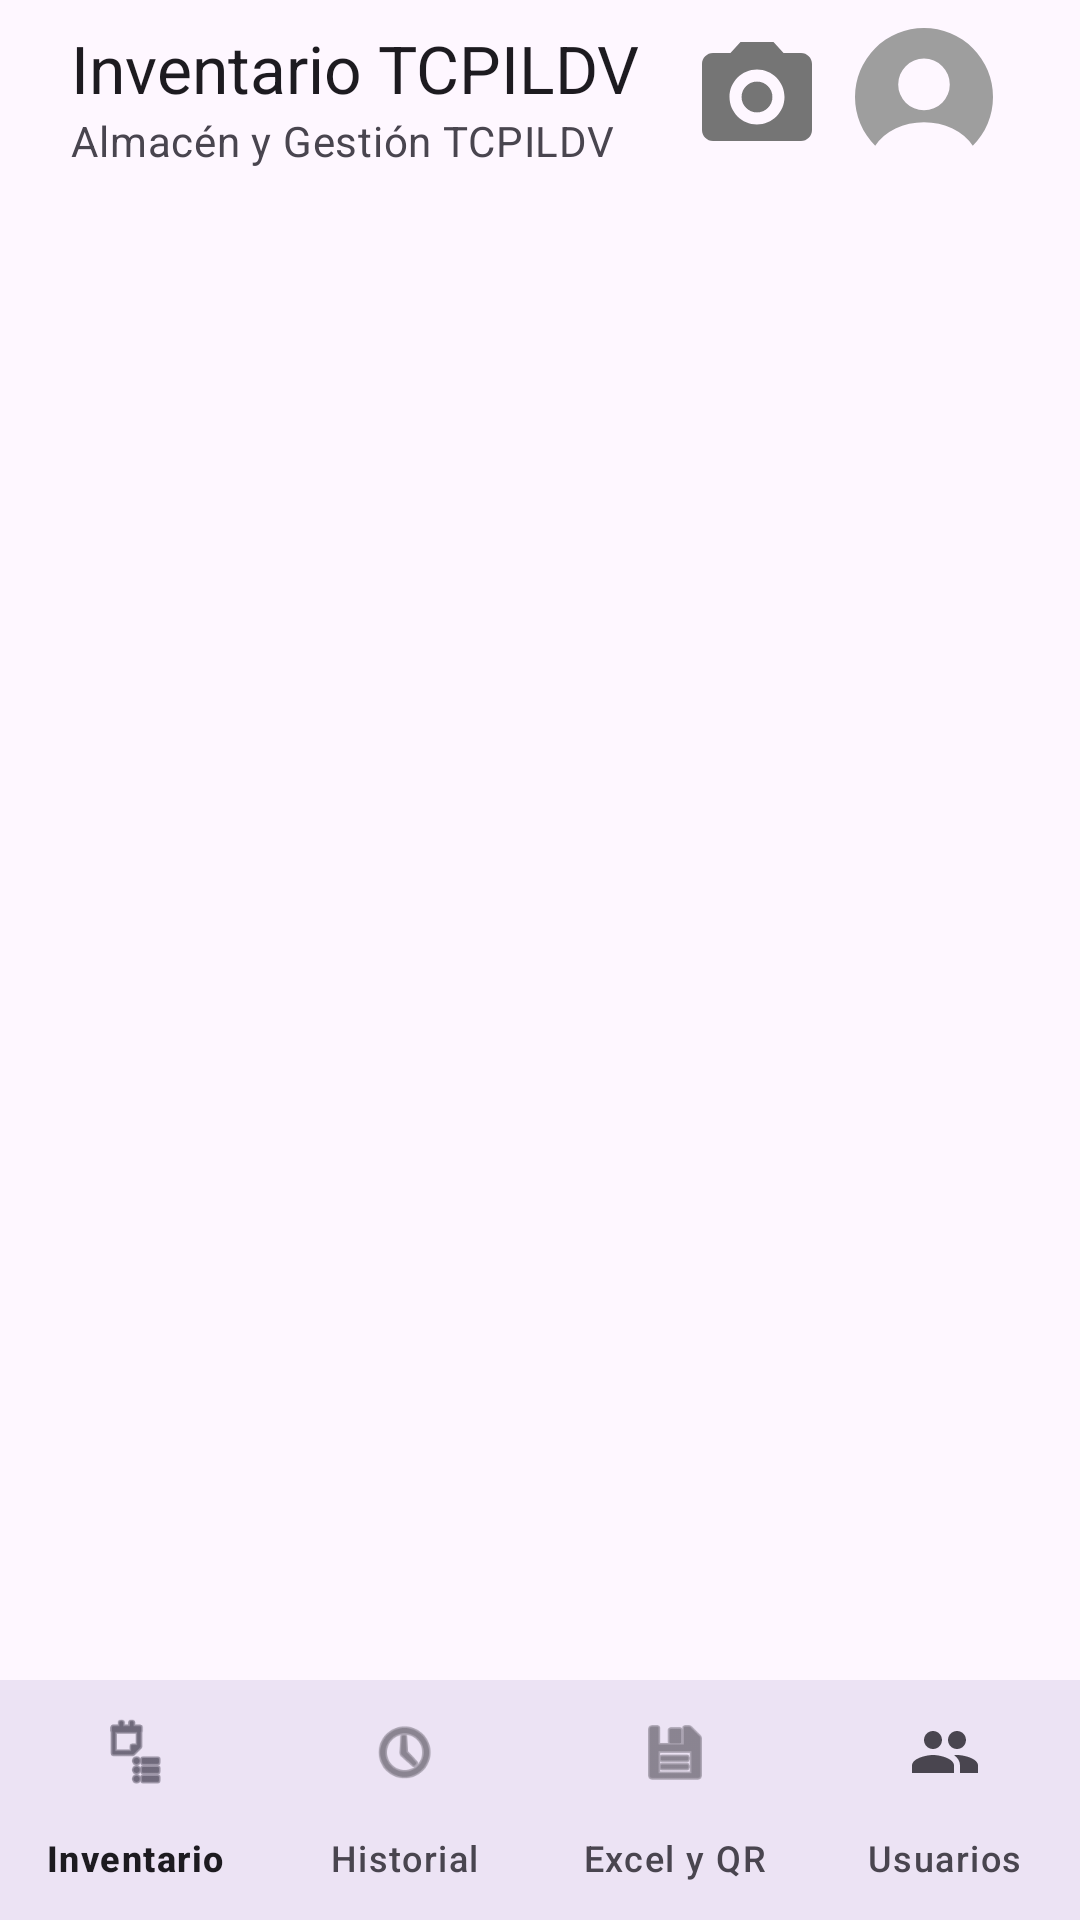

Named icons in this screenshot (1080x1920) and their centers, (x,y):
Escanear Código: (757,91)
Mi Perfil: (924,87)
